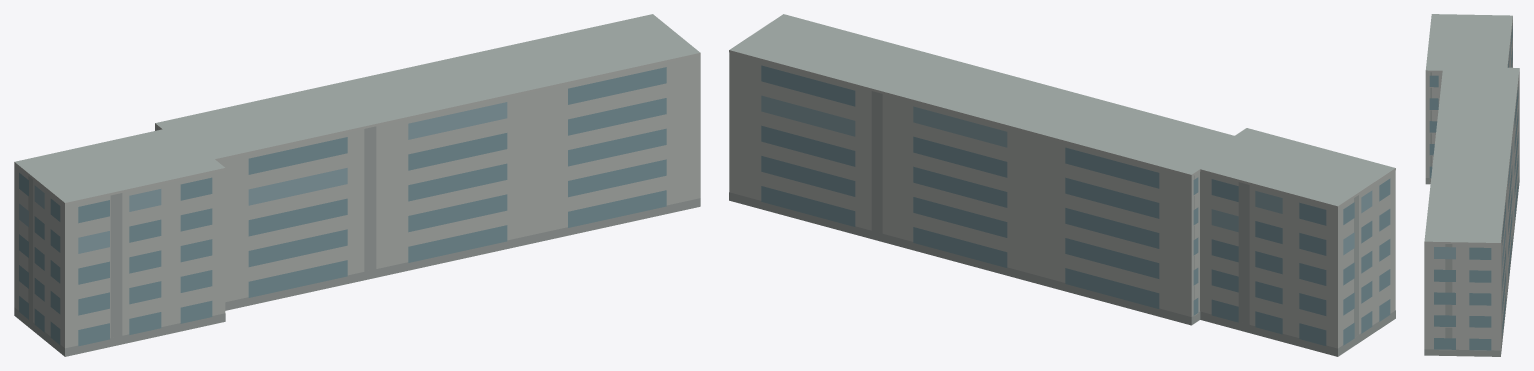
File: residential-48c8e189-bfc7-45c9-97df-7d96e9f882d2.glb
3 views of the same model, side by side, from view 1: azimuth 30°, elevation 25°; view 2: azimuth 150°, elevation 25°; view 3: azimuth 270°, elevation 25° (orthographic). The views are drawn at different scales.
Visible parts, largest first — view 1: residential-48c8e189-bfc7-45c9-97df-7d96e9f882d2.tmp; view 2: residential-48c8e189-bfc7-45c9-97df-7d96e9f882d2.tmp; view 3: residential-48c8e189-bfc7-45c9-97df-7d96e9f882d2.tmp.
Boxes of the visible parts, x1,y1,x2,y2 form: residential-48c8e189-bfc7-45c9-97df-7d96e9f882d2.tmp: (14, 14, 700, 356); residential-48c8e189-bfc7-45c9-97df-7d96e9f882d2.tmp: (729, 14, 1395, 356); residential-48c8e189-bfc7-45c9-97df-7d96e9f882d2.tmp: (1424, 14, 1519, 356).
Bounding box in the file's own units: 65.81 × 15.25 × 11.56.
